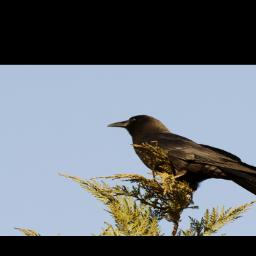Crow: (104, 112, 256, 204)
